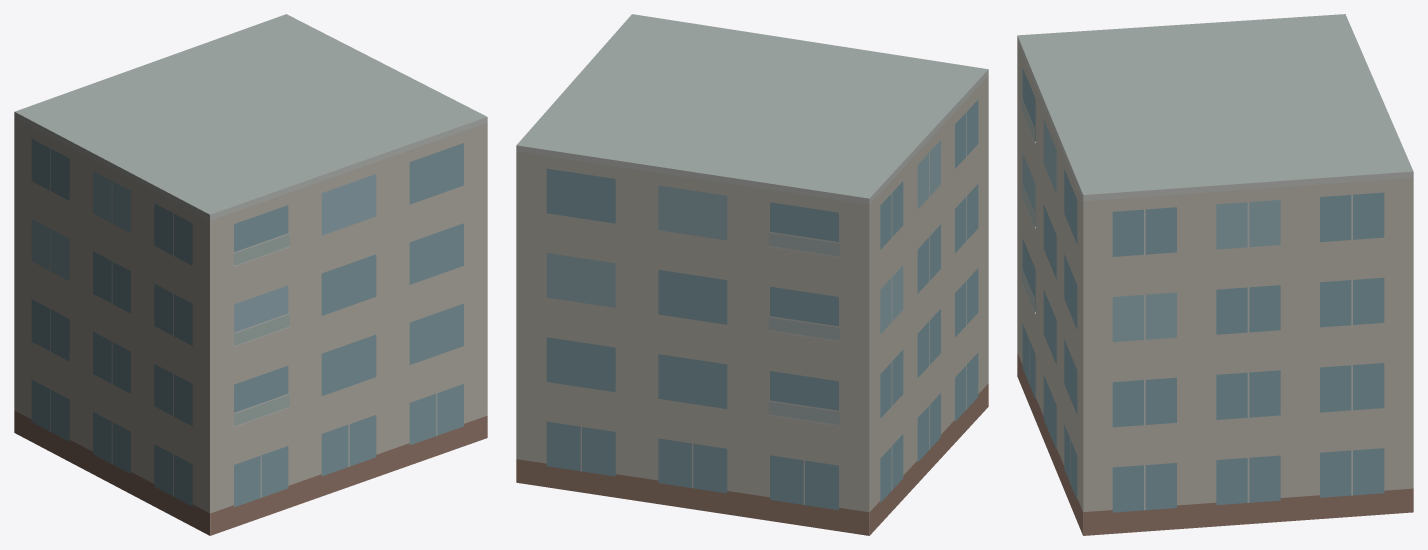
File: survey-upis-32705552.glb
The picture shows the model from 3 angles, left to right: view 1: azimuth 30°, elevation 25°; view 2: azimuth 150°, elevation 25°; view 3: azimuth 270°, elevation 25°; orthographic projection. The views are drawn at different scales.
Visible parts, largest first — view 1: survey-upis-32705552.tmp; view 2: survey-upis-32705552.tmp; view 3: survey-upis-32705552.tmp.
Boxes of the visible parts, x1,y1,x2,y2 form: survey-upis-32705552.tmp: (14, 14, 487, 535); survey-upis-32705552.tmp: (516, 14, 988, 535); survey-upis-32705552.tmp: (1017, 14, 1413, 535).
Size of the model in its own units: 15.28 by 13.4 by 14.13.
